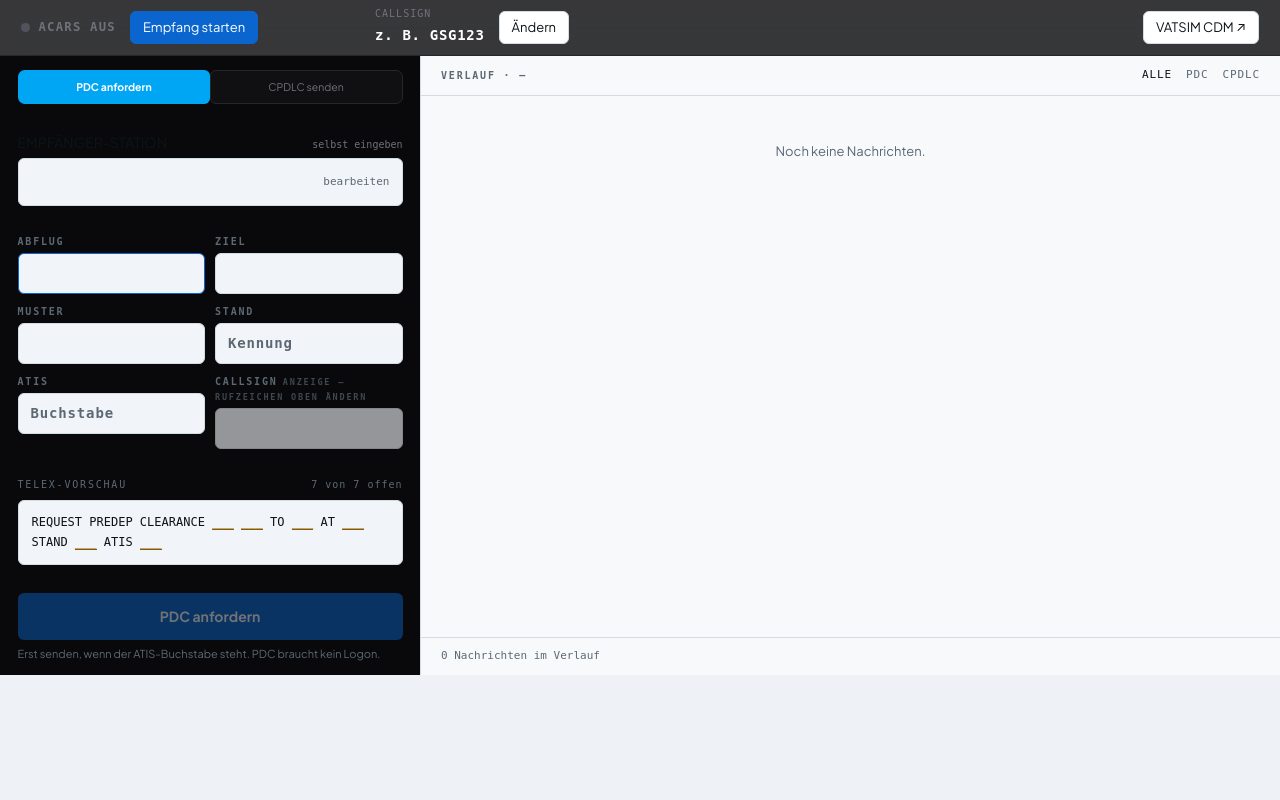
CpdlcPanel connection flow › uppercases the callsign in the field itself, not just visually
The image size is (1280, 800).
Click the button "Ändern" at (534, 28), box [499, 11, 569, 44]
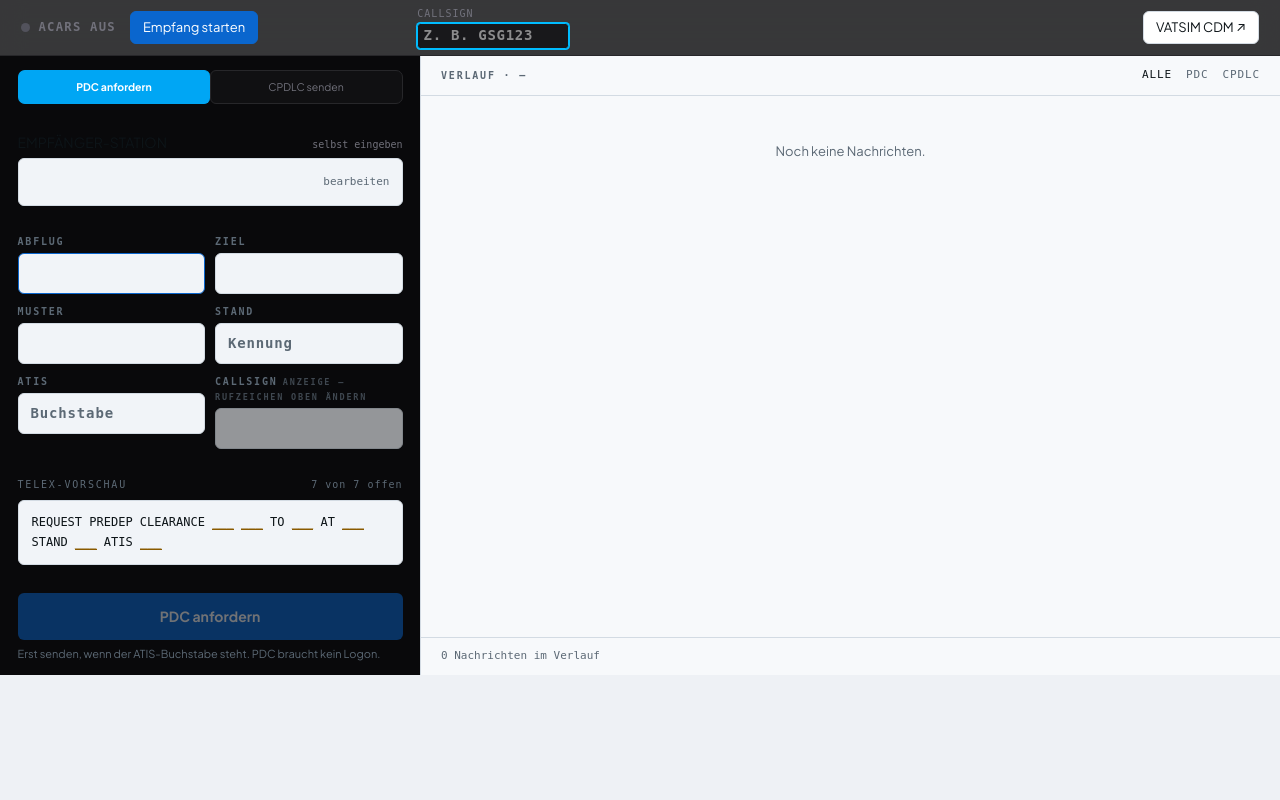
Type "gsg123" into the field labelled "CALLSIGN" at (493, 36), box [417, 23, 569, 49]
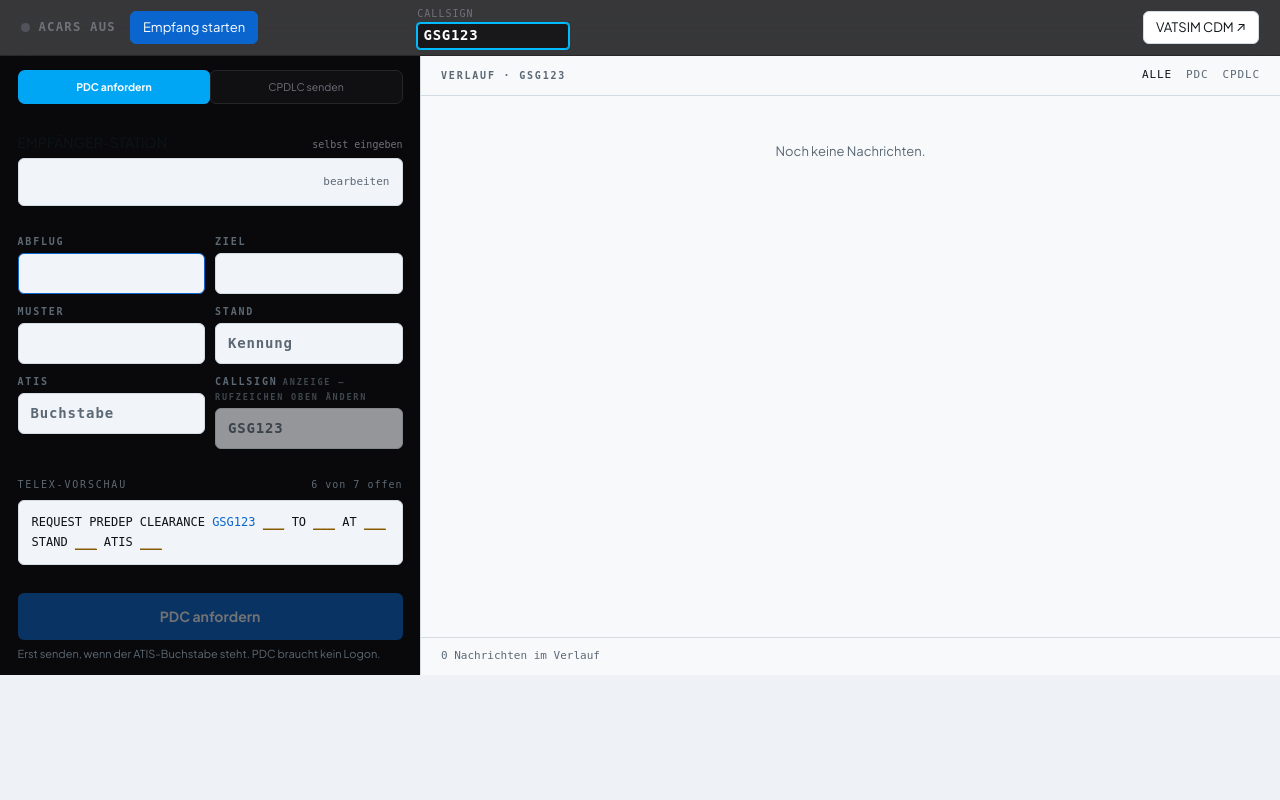
Press Tab
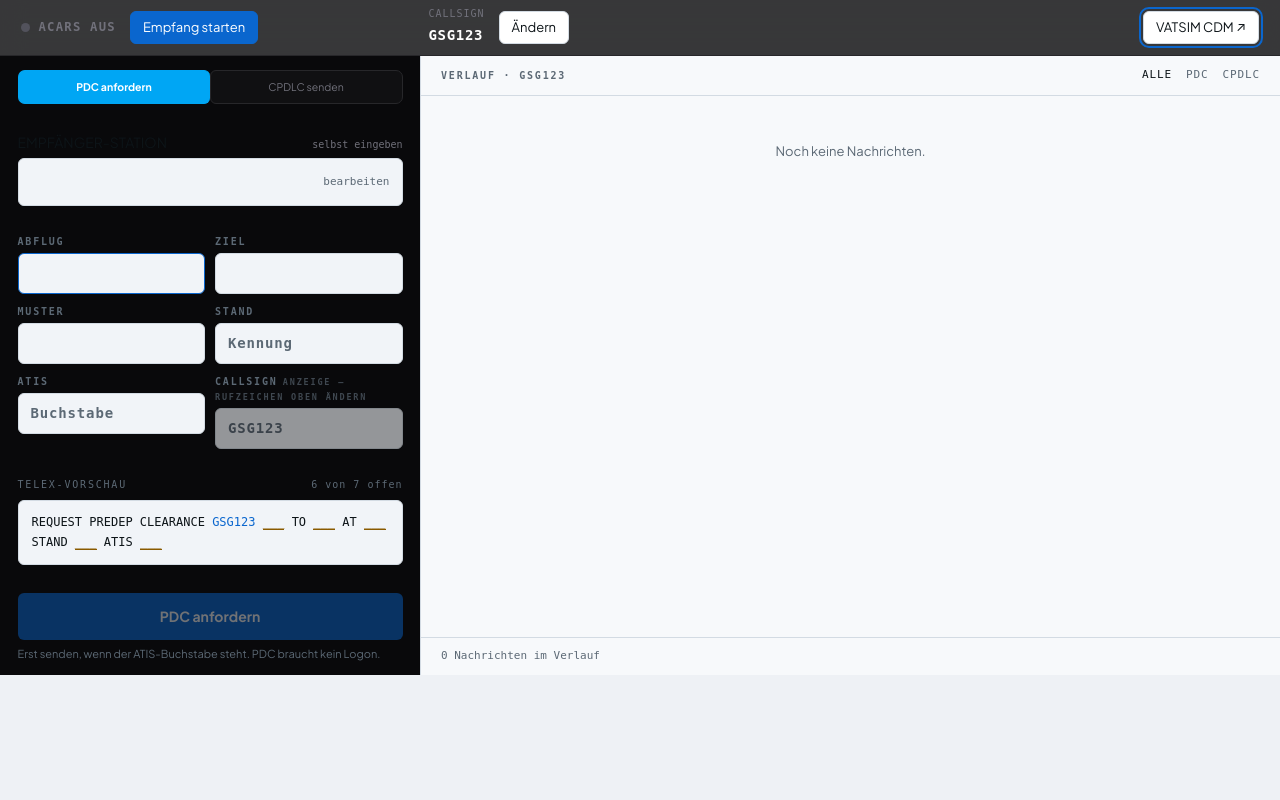
Now the text "GSG123" in the row of "ACARS AUS" is shown, box [428, 27, 483, 43]
